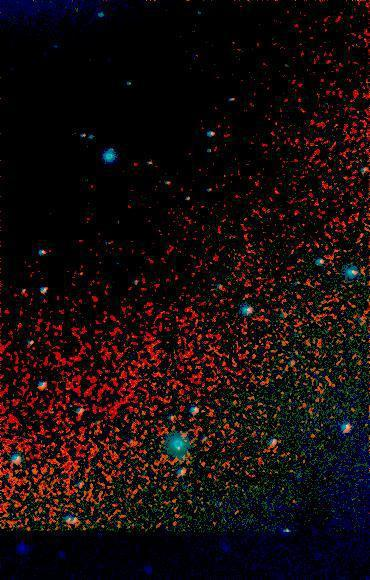star: (63, 0, 93, 21)
